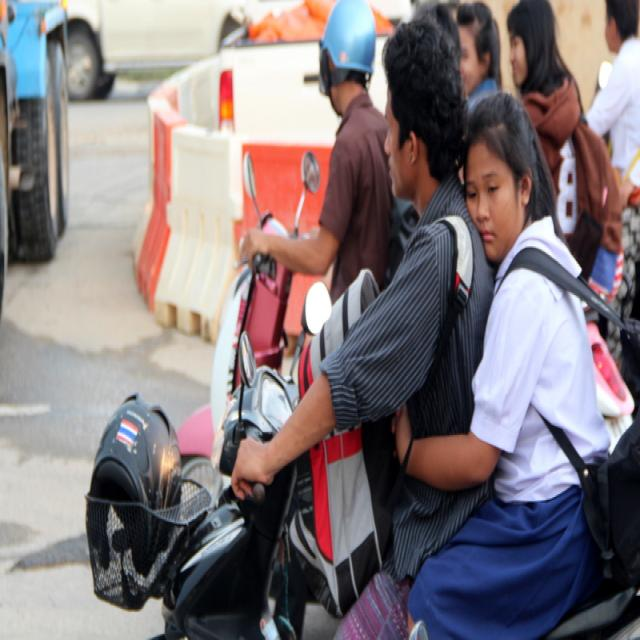no_helmet: (376, 0, 463, 230), (462, 80, 544, 278)
